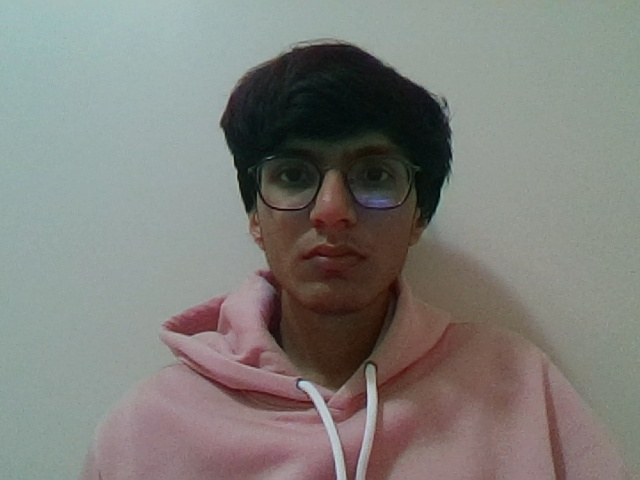Face_mask_not_found: (245, 197, 439, 321)
